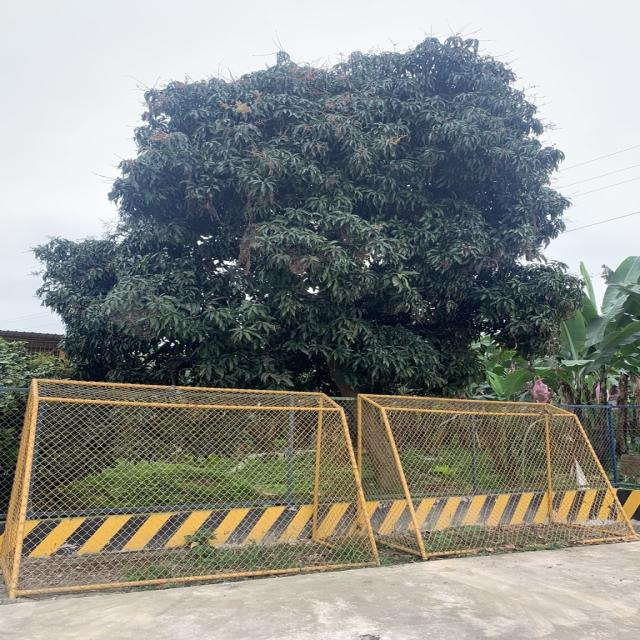Mango-Tree: (45, 19, 600, 384)
